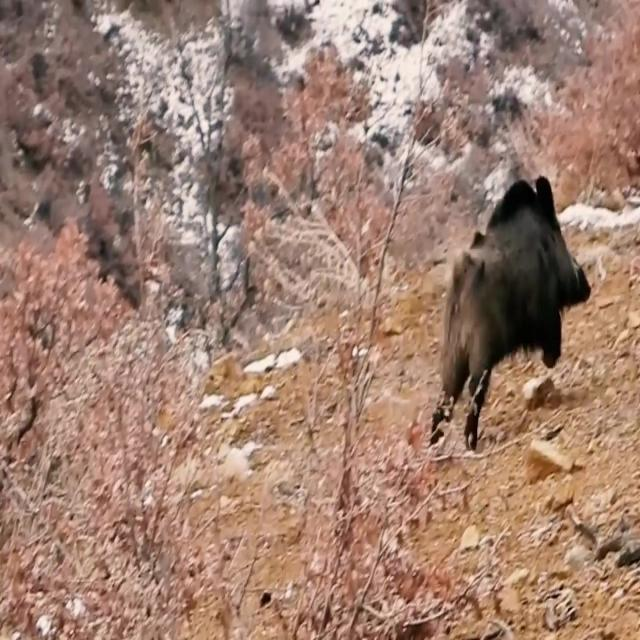pig: (434, 150, 590, 478)
